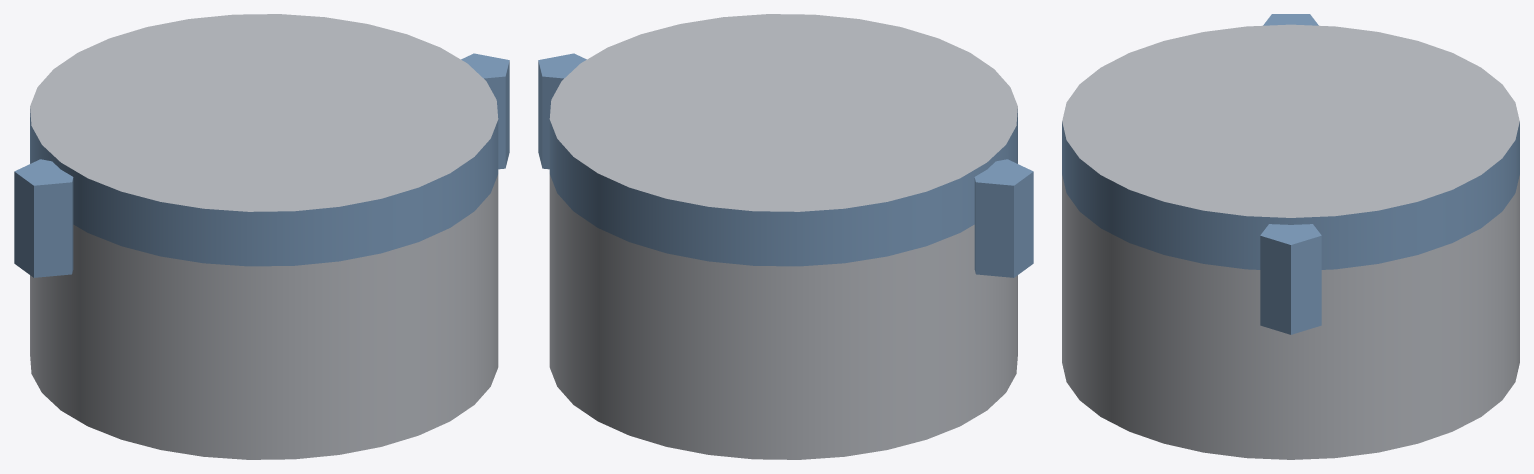
3 renders of one model, left to right at view 1: azimuth 30°, elevation 25°; view 2: azimuth 150°, elevation 25°; view 3: azimuth 270°, elevation 25°, orthographic. The views are drawn at different scales.
Parts seen in each view (by area): view 1: ratchet_2-70; view 2: ratchet_2-70; view 3: ratchet_2-70.
Part boxes in pixels (x1=…): ratchet_2-70: x1=14, y1=14, x2=509, y2=459; ratchet_2-70: x1=538, y1=14, x2=1033, y2=459; ratchet_2-70: x1=1062, y1=14, x2=1519, y2=459.
Bounding box in the file's own units: 14.34 × 7 × 12.
